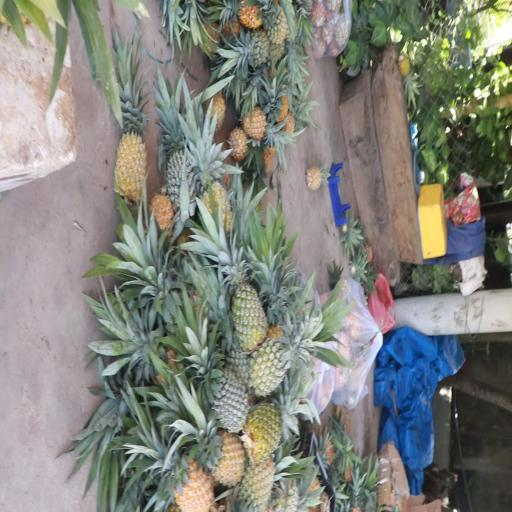------------------------------: (250, 316, 324, 387), (216, 244, 268, 344), (246, 393, 310, 455)
Pineapple - v8 v1: (184, 400, 243, 482), (113, 85, 150, 204), (191, 151, 235, 237), (156, 446, 212, 512), (240, 99, 291, 150), (237, 450, 278, 510)
